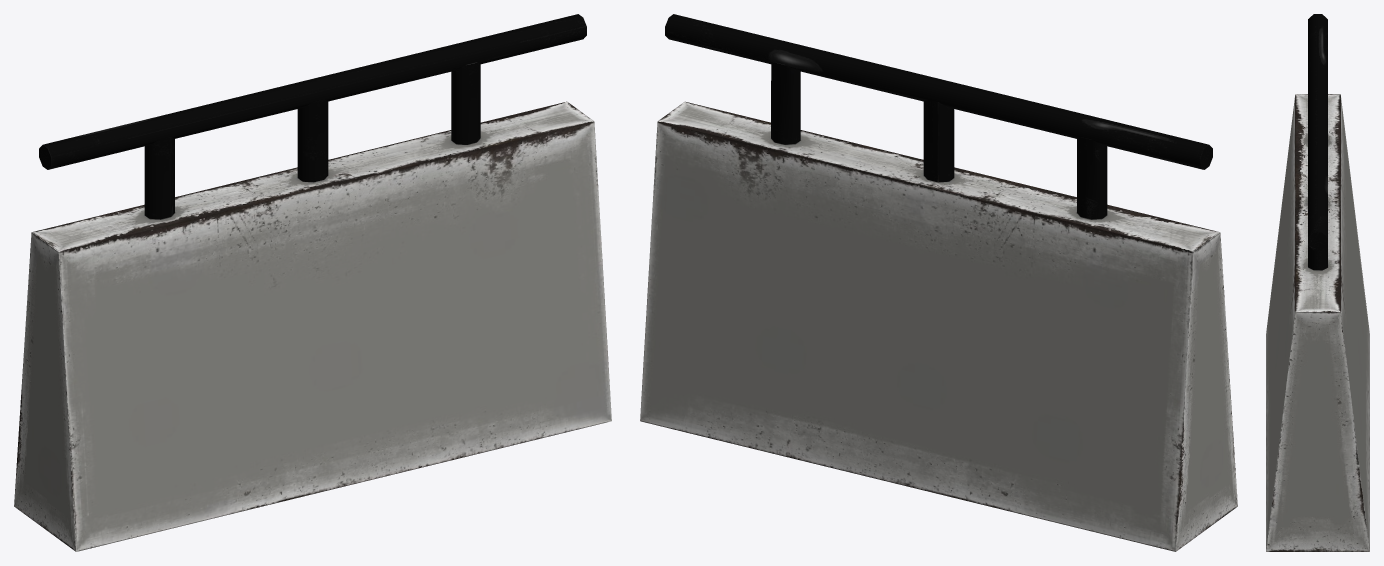
The model's file is RoadMedian3Final.fbx.
3 renders of one model, left to right at view 1: azimuth 30°, elevation 25°; view 2: azimuth 150°, elevation 25°; view 3: azimuth 270°, elevation 25°, orthographic. The views are drawn at different scales.
Visible parts, largest first — view 1: roadmedianfinal; view 2: roadmedianfinal; view 3: roadmedianfinal.
Part boxes in pixels (left/top/right/bottom): roadmedianfinal: left=14, top=14, right=611, bottom=551; roadmedianfinal: left=640, top=14, right=1237, bottom=551; roadmedianfinal: left=1266, top=14, right=1369, bottom=551.
Bounding box in the file's own units: 588 × 402 × 118.
